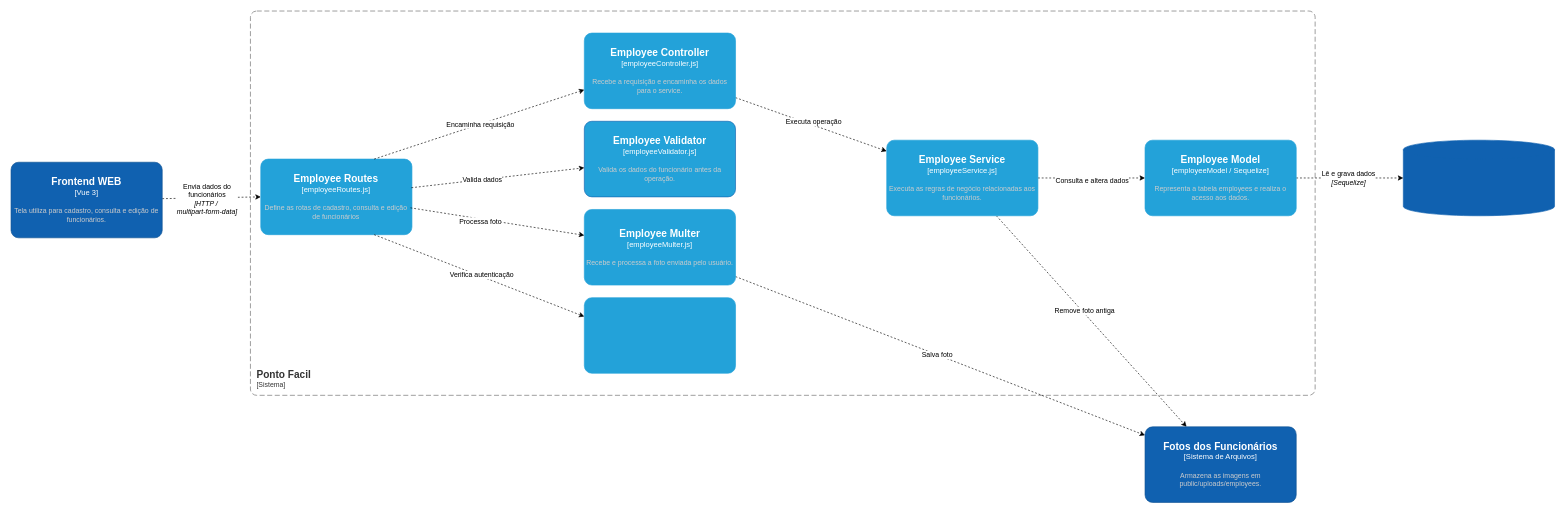
The diagram is 1566 pixels wide and 513 high, and some of its shapes have lost their labels. Each missing label, with the centre of its shape:
Auth Middleware [auth.js] Verifica se o usuário possui um token JWT válido.: pixel 660 335
Banco de Dados [BD: MySQL] Armazena os dados da tabela employees.: pixel 1479 178
